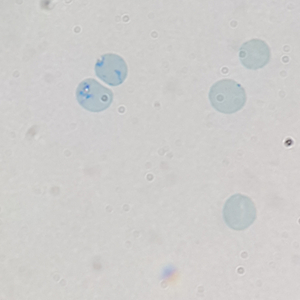aggregate reticulocyte: (75, 77, 116, 114), (93, 52, 130, 88)
erythrocyte: (221, 192, 259, 232), (238, 38, 273, 72)
punctate reticulocyte: (207, 77, 248, 115)
